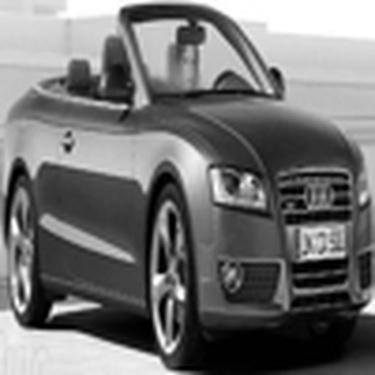car: (1, 20, 367, 339)
